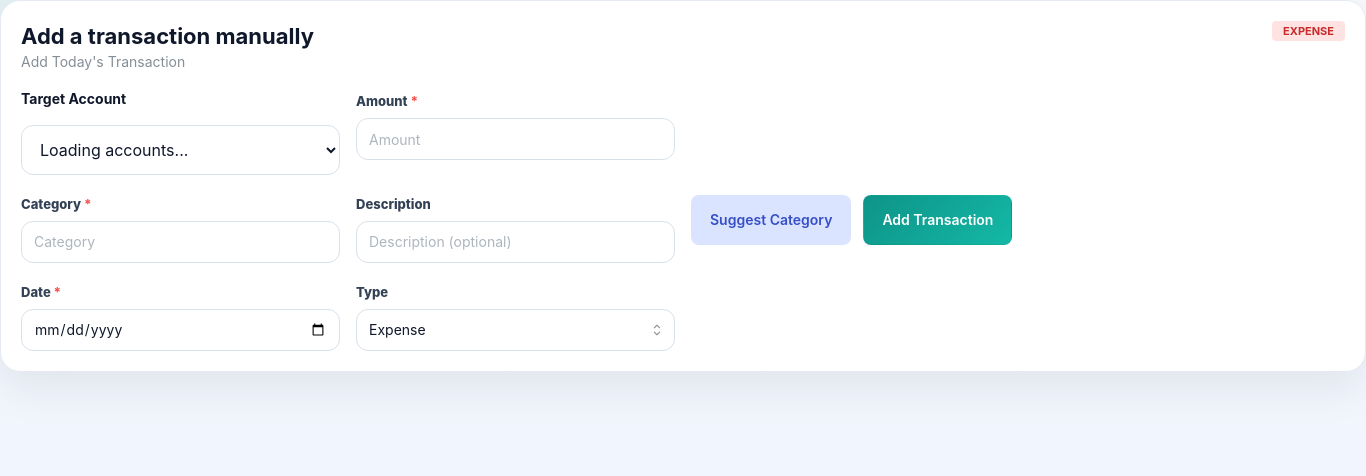
Test: TransactionForm account resolution › does not post a null account_id while the account list is still loading
In the number field with placeholder "Amount": (516, 139) [356,118,675,160], type "1200"
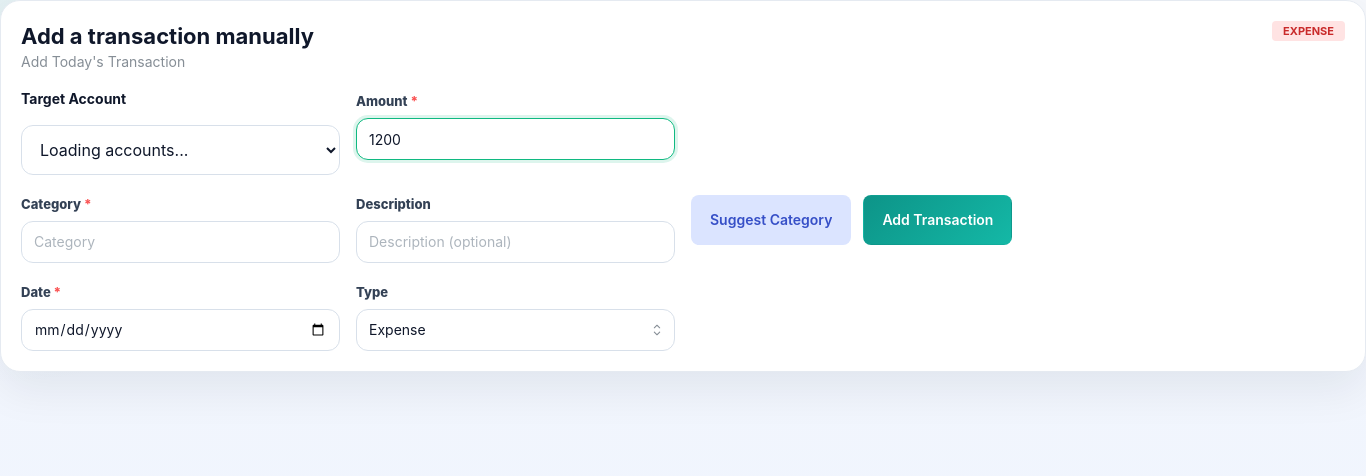
In the dropdown with placeholder "Category": (180, 242) [21,221,340,263], type "salary"
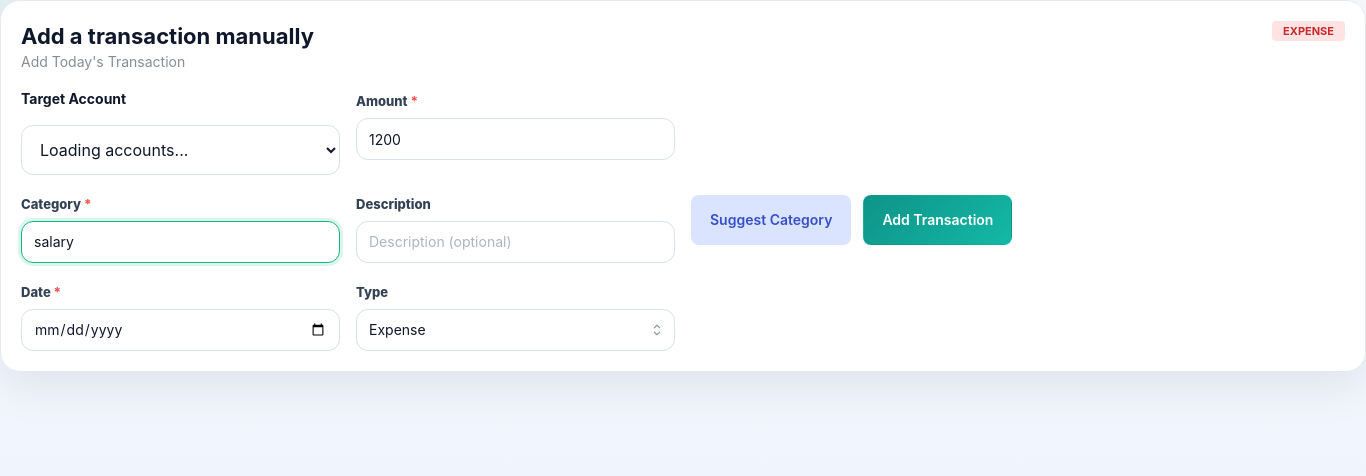
In the date field labelled "Date *": (180, 330) [21,309,340,351], type "2026-06-15"
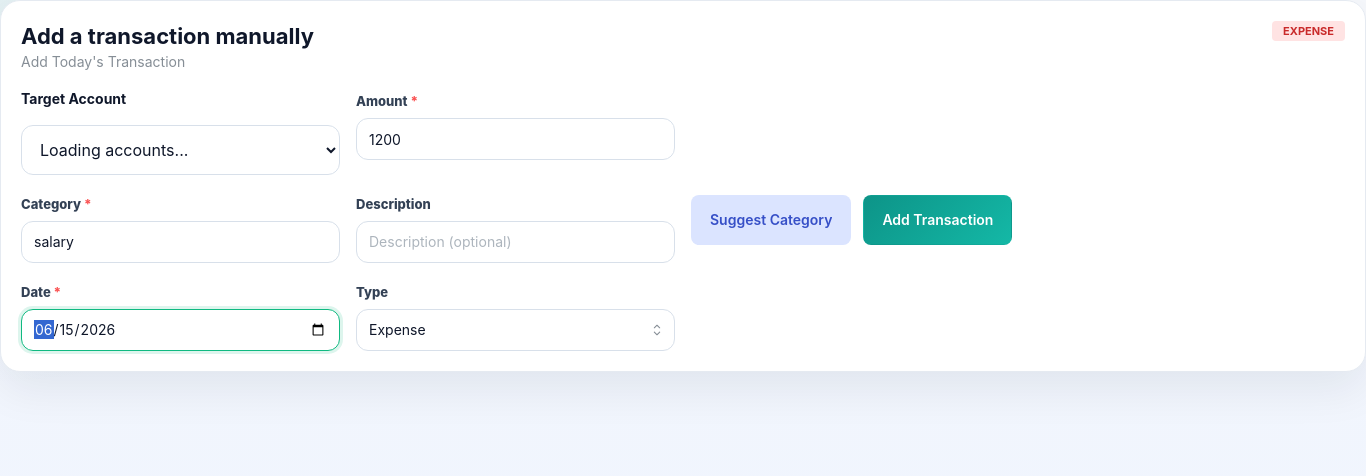
Click the button "Add Transaction": (938, 220) [863,195,1012,245]
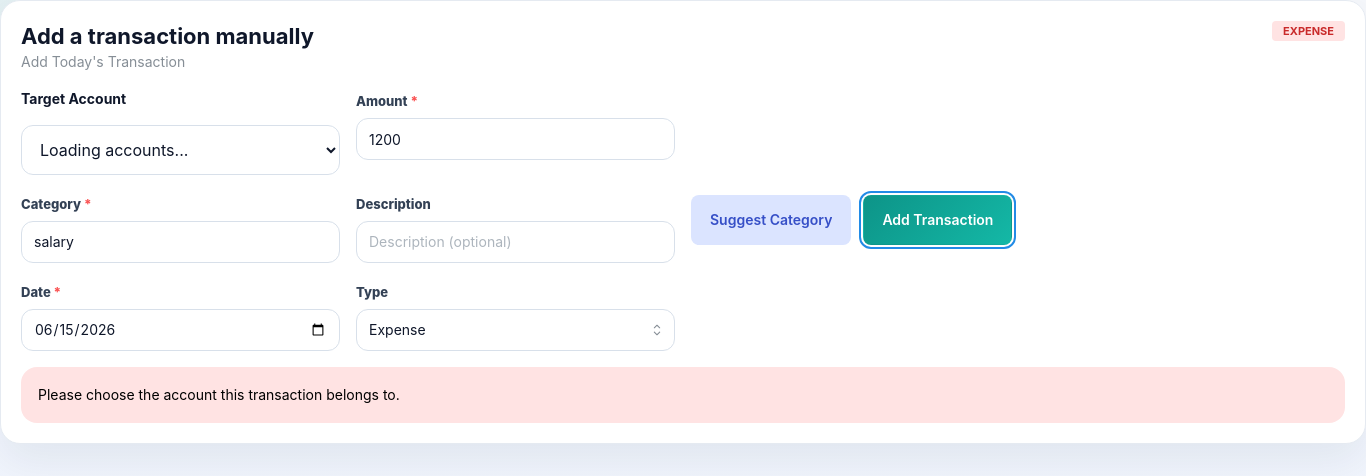
Expected: the text "Please choose the account this transaction belongs to." is shown, [38,386,400,403]
